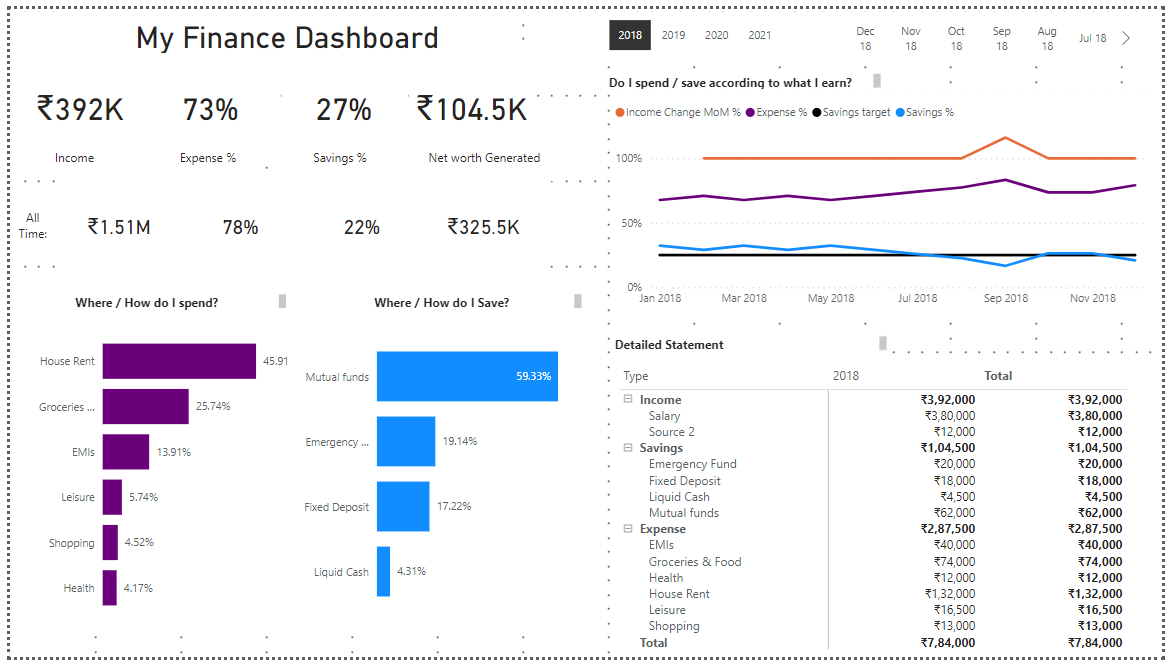

Layout of this report page (visuals, bound fields, positions):
{"tool":"powerbi","page":{"name":"Fin Dashboard","canvas":[1280,720],"ordinal":0},"visuals":[{"type":"card","fields":{"Values":["Key Measures.Total Income"]},"box":[8.2,44.5,137.6,126.7],"z":0},{"type":"card","fields":{"Values":["Key Measures.Expense %"]},"box":[153.7,44.5,137.6,126.7],"z":1000},{"type":"card","fields":{"Values":["Key Measures.Savings %"]},"box":[302.2,44.5,137.6,126.7],"z":2000},{"type":"card","fields":{"Values":["Key Measures.Total Saving"]},"box":[443.7,44.5,137.6,126.7],"z":3000},{"type":"textbox","box":[12.2,149.4,119.8,29.7],"z":4000},{"type":"textbox","box":[160.6,149.4,119.8,29.7],"z":5000},{"type":"textbox","box":[307.1,149.4,119.8,29.7],"z":6000},{"type":"textbox","box":[448.9,149.4,157.4,41.6],"z":7000},{"type":"slicer","fields":{"Values":["FinData.Year"]},"box":[640,5.2,240.4,47.6],"z":8000},{"type":"slicer","fields":{"Values":["FinData.Date"]},"box":[899.6,4.9,351.3,47.5],"z":9000},{"type":"card","fields":{"Values":["Key Measures.Total Saving"]},"box":[456.6,179.2,137.6,126.7],"z":10000},{"type":"card","fields":{"Values":["Key Measures.Savings %"]},"box":[321.7,179.2,137.6,126.7],"z":11000},{"type":"card","fields":{"Values":["Key Measures.Expense %"]},"box":[186.7,179.2,137.6,126.7],"z":12000},{"type":"card","fields":{"Values":["Key Measures.Total Income"]},"box":[51.8,179.1,137.6,126.7],"z":13000},{"type":"textbox","box":[0.6,216.7,50.5,52.5],"z":14000},{"type":"card","fields":{"Values":["Key Measures.Title"]},"box":[59.4,1,486.9,52.5],"z":15000},{"type":"clusteredBarChart","fields":{"Category":["FinData.Component"],"Y":["Key Measures.Total Expense"]},"box":[10.9,338.5,313.7,350.4],"z":16000},{"type":"textbox","box":[0,311.4,311.4,26.8],"z":17000},{"type":"clusteredBarChart","fields":{"Category":["FinData.Component"],"Y":["Key Measures.Total Saving"]},"box":[307.8,338.5,344.4,350.4],"z":18000},{"type":"textbox","box":[328.6,311.4,311.4,26.8],"z":19000},{"type":"lineChart","fields":{"Y":["Key Measures.Income Change MoM %","Key Measures.Expense %","Key Measures.Savings target","Key Measures.Savings %"],"Category":["FinData.Date"]},"box":[665.9,94.3,614.1,243.9],"z":20000},{"type":"textbox","box":[660.8,67.5,312.2,26.8],"z":21000},{"type":"pivotTable","fields":{"Values":["Key Measures.Values"],"Columns":["FinData.Year","FinData.Date"],"Rows":["Type.Type","FinData.Component"]},"box":[672,390.9,604.5,329.5],"z":22000},{"type":"textbox","box":[665.9,358.1,312.2,26.8],"z":23000}]}

Visuals, with their boxes in screenshot pixels (x1, y1, x2, y2), scaled from the page's 1280x720 canvas onto the 1167x661 screenshot:
card - Key Measures.Total Income: <box>7,41,133,157</box>
card - Key Measures.Expense %: <box>140,41,266,157</box>
card - Key Measures.Savings %: <box>276,41,401,157</box>
card - Key Measures.Total Saving: <box>405,41,530,157</box>
textbox: <box>11,137,120,164</box>
textbox: <box>146,137,256,164</box>
textbox: <box>280,137,389,164</box>
textbox: <box>409,137,553,175</box>
slicer - FinData.Year: <box>584,5,803,48</box>
slicer - FinData.Date: <box>820,4,1140,48</box>
card - Key Measures.Total Saving: <box>416,165,542,281</box>
card - Key Measures.Savings %: <box>293,165,419,281</box>
card - Key Measures.Expense %: <box>170,165,296,281</box>
card - Key Measures.Total Income: <box>47,164,173,281</box>
textbox: <box>1,199,47,247</box>
card - Key Measures.Title: <box>54,1,498,49</box>
clusteredBarChart - FinData.Component x Key Measures.Total Expense: <box>10,311,296,632</box>
textbox: <box>0,286,284,310</box>
clusteredBarChart - FinData.Component x Key Measures.Total Saving: <box>281,311,595,632</box>
textbox: <box>300,286,584,310</box>
lineChart - Key Measures.Income Change MoM % x Key Measures.Expense %: <box>607,87,1166,310</box>
textbox: <box>602,62,887,87</box>
pivotTable - Key Measures.Values x FinData.Year: <box>613,359,1164,660</box>
textbox: <box>607,329,892,353</box>
